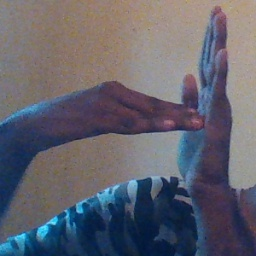Z: (125, 4, 236, 192)
